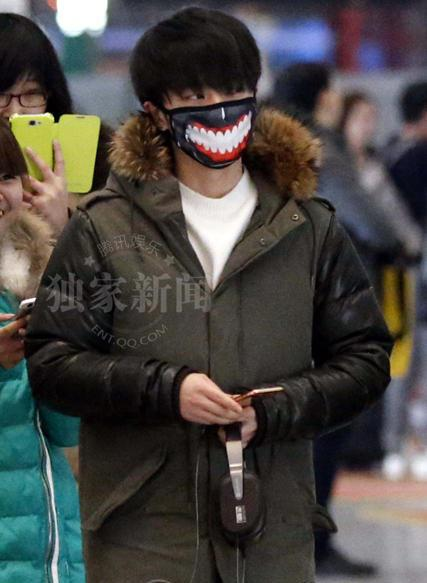NONE: (1, 70, 60, 152)
OK: (167, 72, 260, 165)
